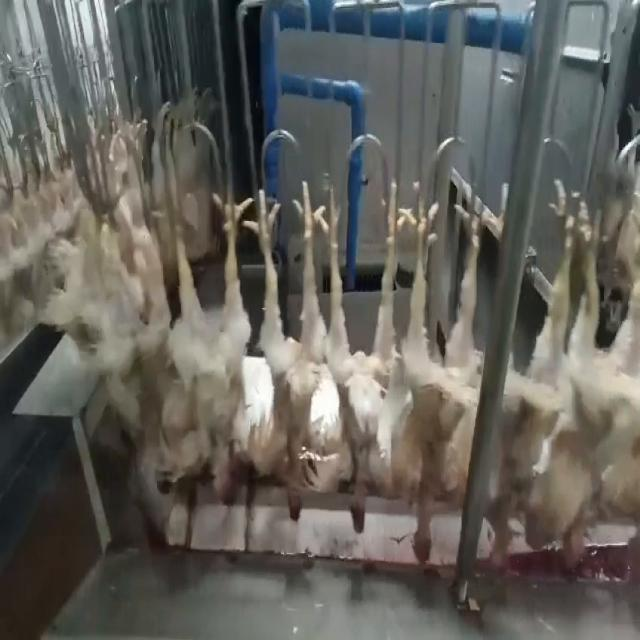chicken: (501, 182, 599, 581), (398, 179, 497, 569), (154, 175, 253, 503), (328, 163, 415, 536), (243, 178, 331, 526), (595, 166, 639, 533)
